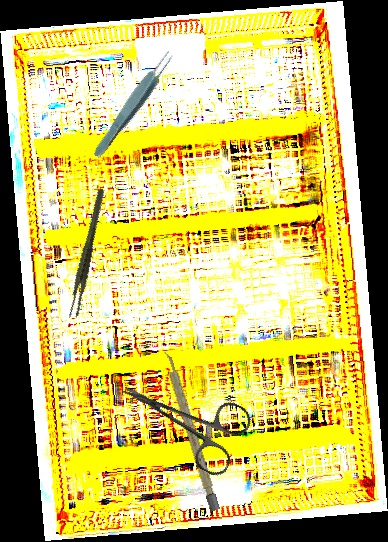Iris Scissors: (108, 354, 256, 480)
Scalpel Handle: (161, 350, 221, 512)
Tissue Forceps: (47, 187, 128, 321), (89, 47, 179, 162)
